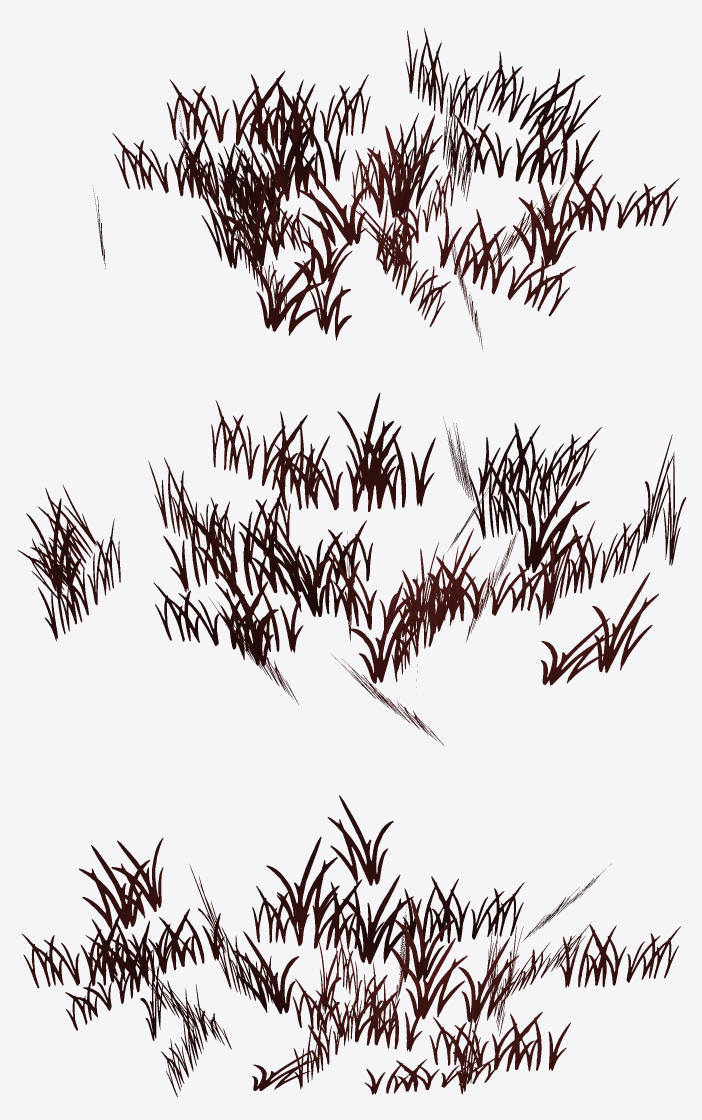
3 views of the same model, one above another, from view 1: azimuth 30°, elevation 25°; view 2: azimuth 150°, elevation 25°; view 3: azimuth 270°, elevation 25° (orthographic). The views are drawn at different scales.
Parts seen in each view (by area): view 1: SM_WT_GrassShort_01_LOD0; view 2: SM_WT_GrassShort_01_LOD0; view 3: SM_WT_GrassShort_01_LOD0.
Part boxes in pixels (x1,y1,x2,y2): SM_WT_GrassShort_01_LOD0: [92, 28, 679, 349]; SM_WT_GrassShort_01_LOD0: [17, 393, 686, 745]; SM_WT_GrassShort_01_LOD0: [22, 795, 680, 1096].
Size of the model in its own units: 1.73 by 0.3618 by 1.97.
1 material, 1 textured.
